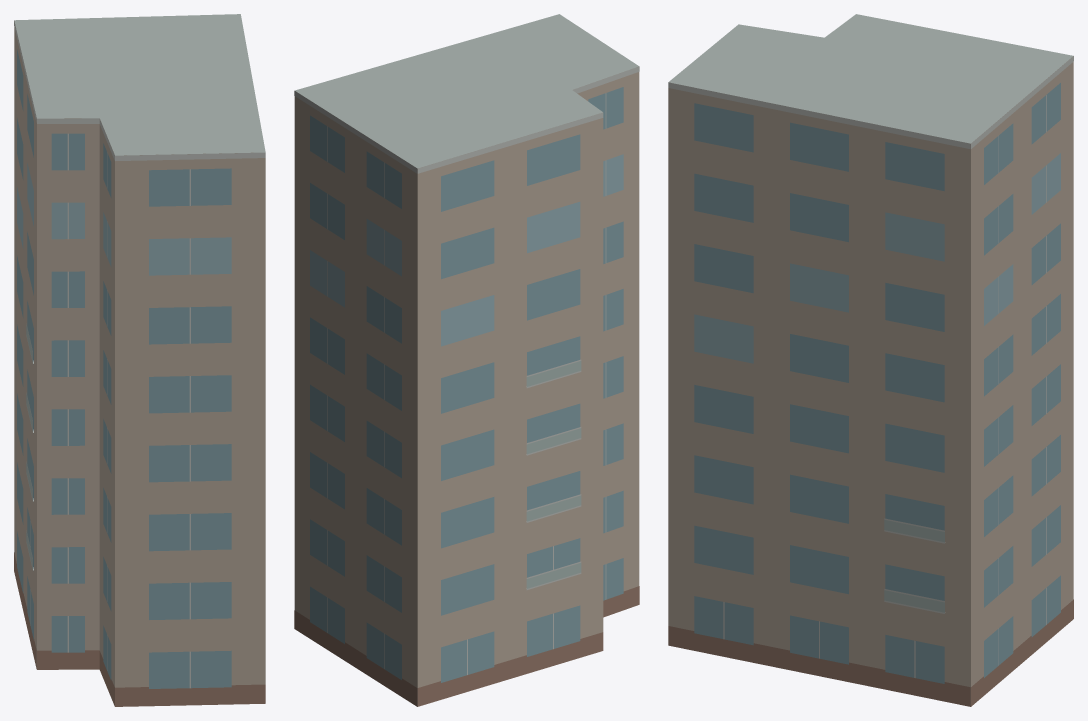
Rendered from survey-upis-32968016.glb.
3 views of the same model, side by side, from view 1: azimuth 30°, elevation 25°; view 2: azimuth 150°, elevation 25°; view 3: azimuth 270°, elevation 25° (orthographic). The views are drawn at different scales.
Parts seen in each view (by area): view 1: survey-upis-32968016.tmp; view 2: survey-upis-32968016.tmp; view 3: survey-upis-32968016.tmp.
Boxes of the visible parts, x1=… form: survey-upis-32968016.tmp: x1=14, y1=14, x2=265, y2=706; survey-upis-32968016.tmp: x1=294, y1=14, x2=639, y2=706; survey-upis-32968016.tmp: x1=668, y1=14, x2=1073, y2=706.
Bounding box in the file's own units: 12.06 × 24.4 × 15.93.
